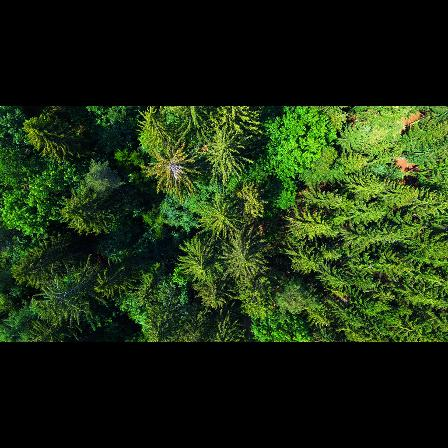Sick: (149, 149, 195, 189)
